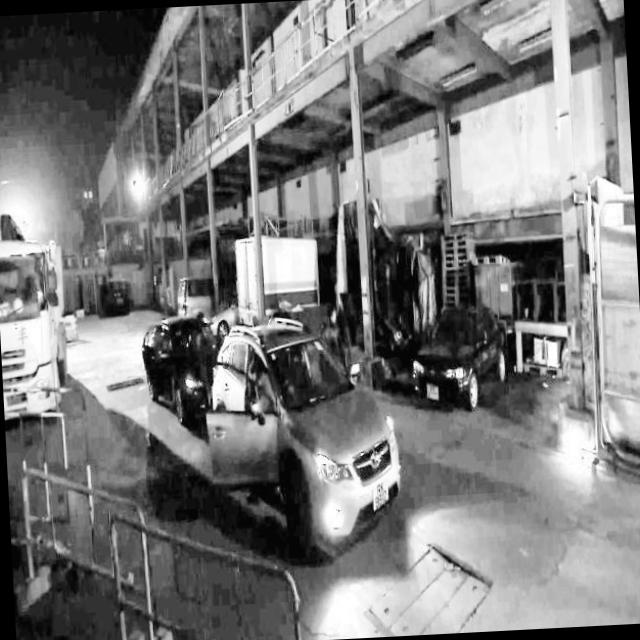Car: (206, 285, 413, 550), (410, 277, 523, 438), (123, 273, 224, 452), (171, 262, 221, 319)
